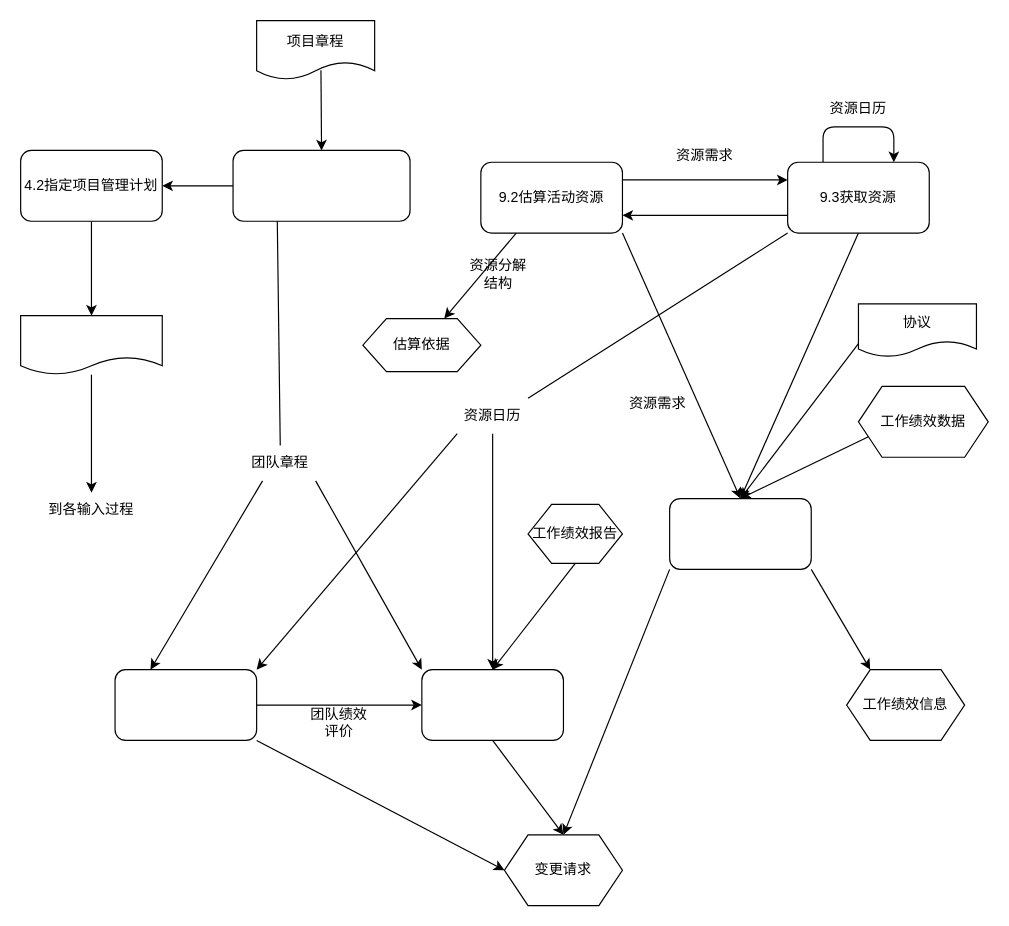
The diagram is 1009 pixels wide and 926 high, and some of its shapes have lost their labels. The shapes that lost their labels are listed below. From the top down, each one's centre as x and y in pixels, then its label:
pixel 321 185: 9.1规划资源管理
pixel 90 344: 项目管理计划
pixel 739 533: 9.6控制资源
pixel 185 704: 9.4建设团队
pixel 492 704: 9.5管理团队
